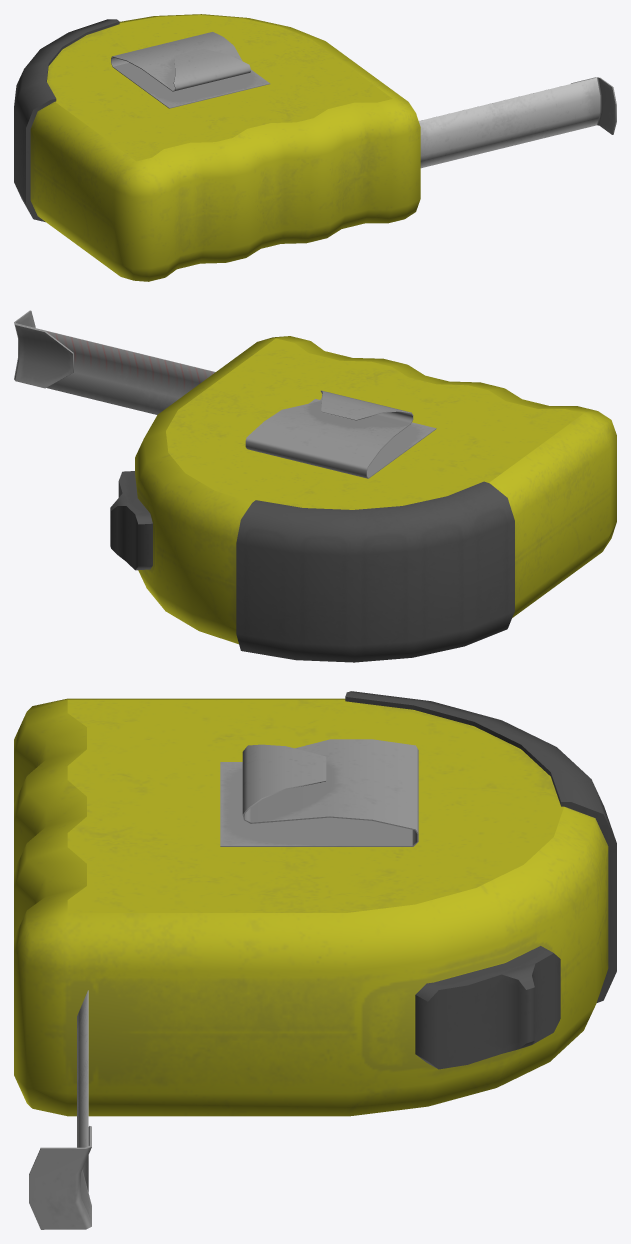
The model's file is measuring tape.fbx.
The picture shows the model from 3 angles, top to bottom: view 1: azimuth 30°, elevation 25°; view 2: azimuth 150°, elevation 25°; view 3: azimuth 270°, elevation 25°; orthographic projection. The views are drawn at different scales.
Visible parts, largest first — view 1: roulette_Tools_0; view 2: roulette_Tools_0; view 3: roulette_Tools_0.
Part boxes in pixels (x1,y1,x2,y2): roulette_Tools_0: (14,14,616,281); roulette_Tools_0: (14,310,616,662); roulette_Tools_0: (14,691,616,1229).
Bounding box in the file's own units: 1578 × 438 × 976.
1 material, 1 textured.
